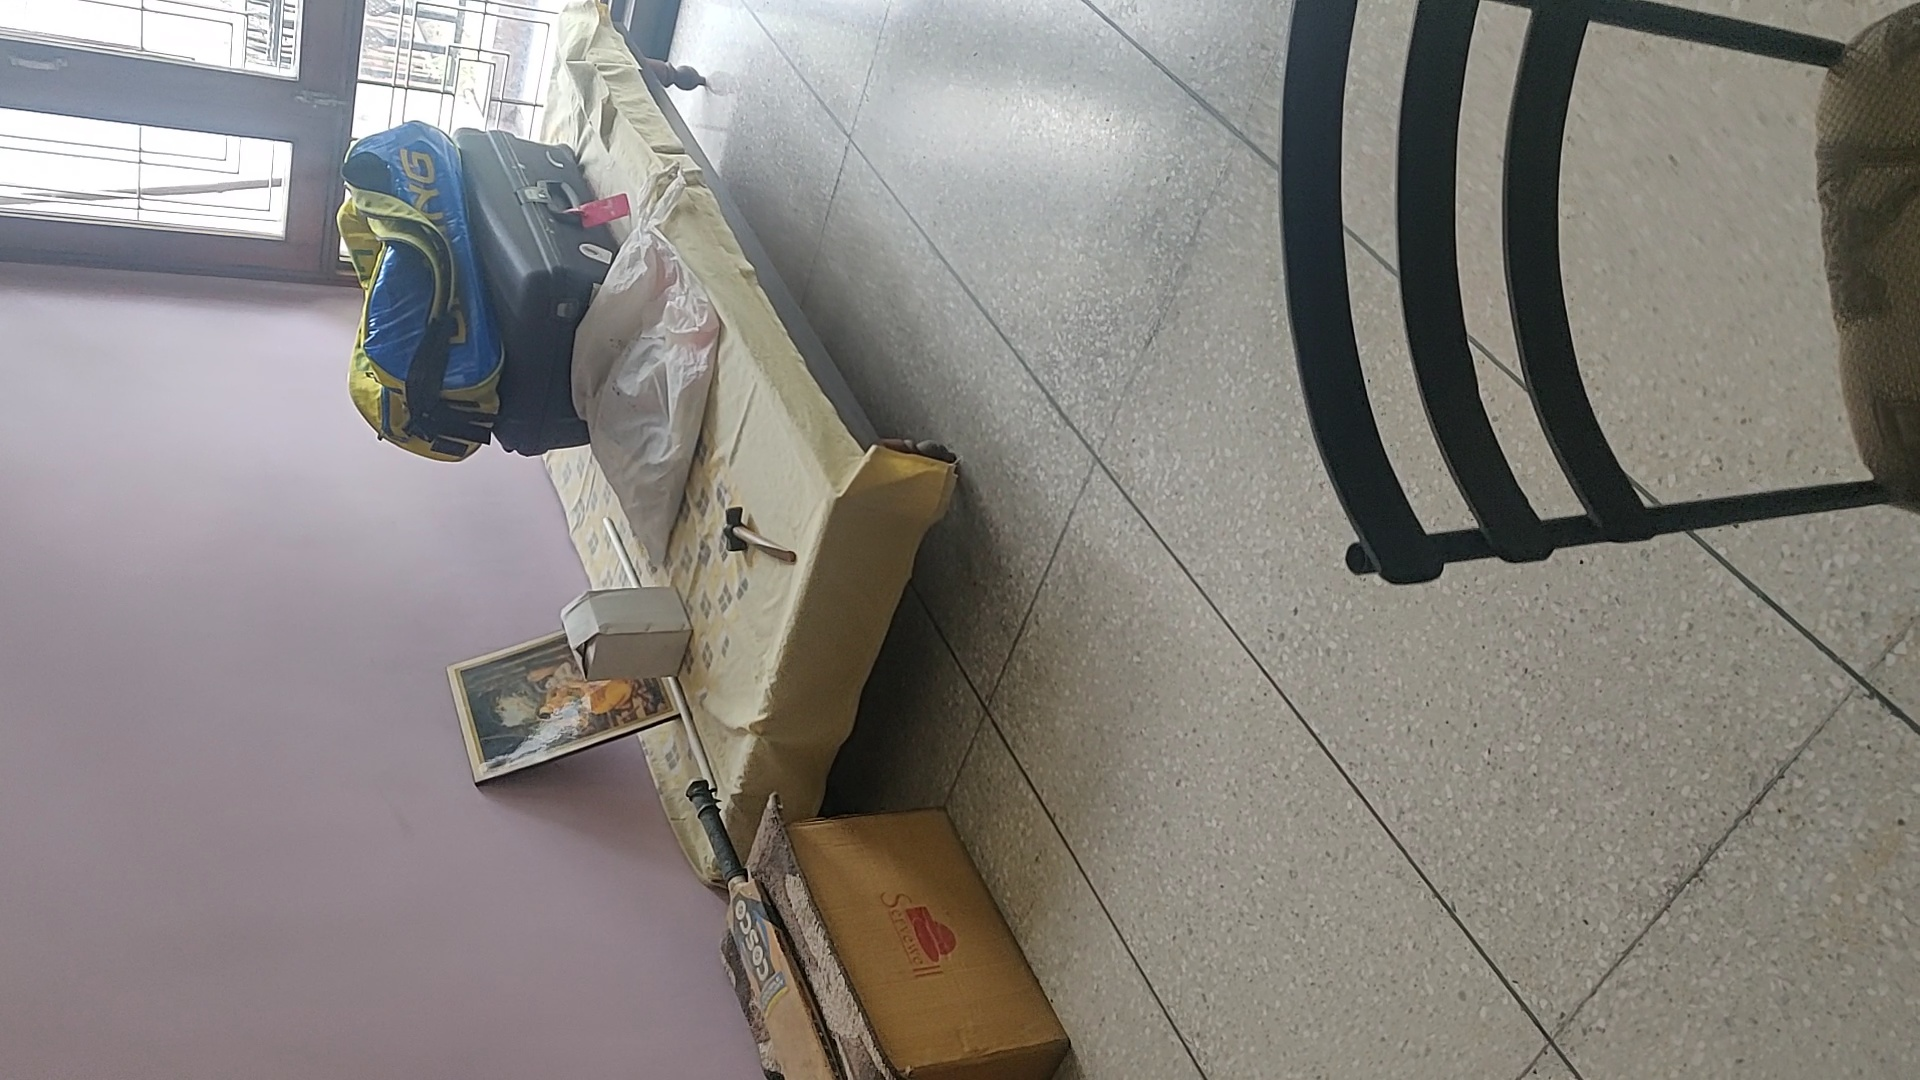hammer: (717, 505, 796, 574)
